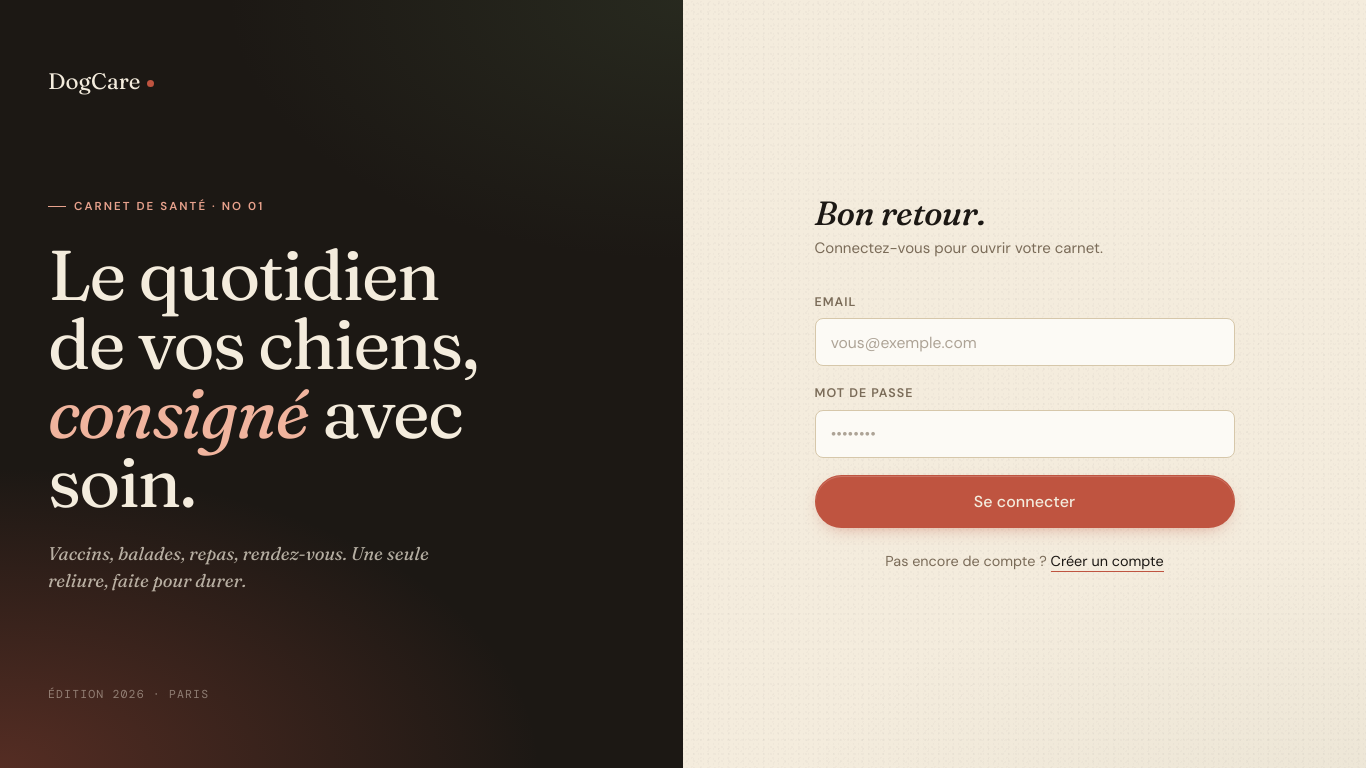
Test: LoginPage › displays the error message when login fails
This screenshot has width=1366, height=768.
Type "a@b.com" into the field labelled "Email" at (1024, 342), box [814,318,1234,366]
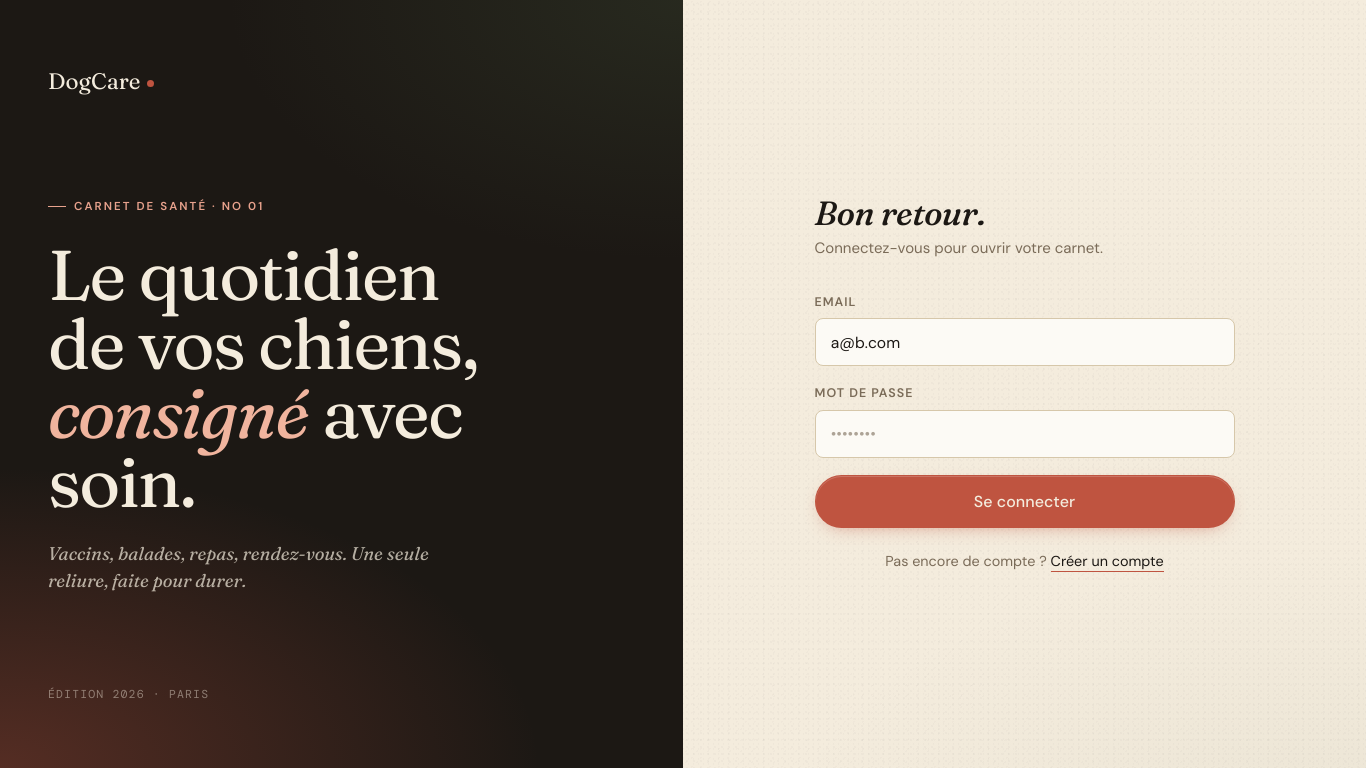
Type "wrong" into the password field labelled "Mot de passe" at (1024, 434), box [814,410,1234,458]
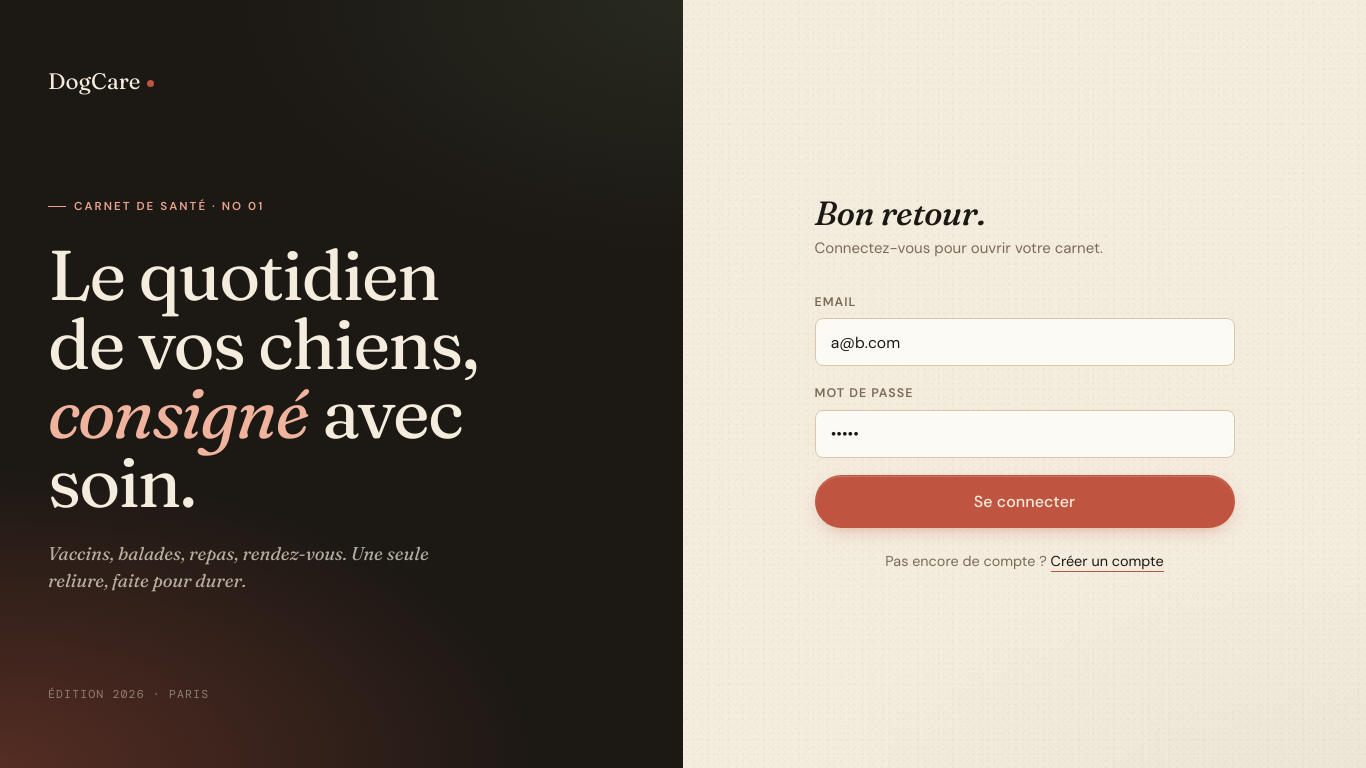
Click the button "Se connecter" at (1024, 501), box [814,475,1234,528]
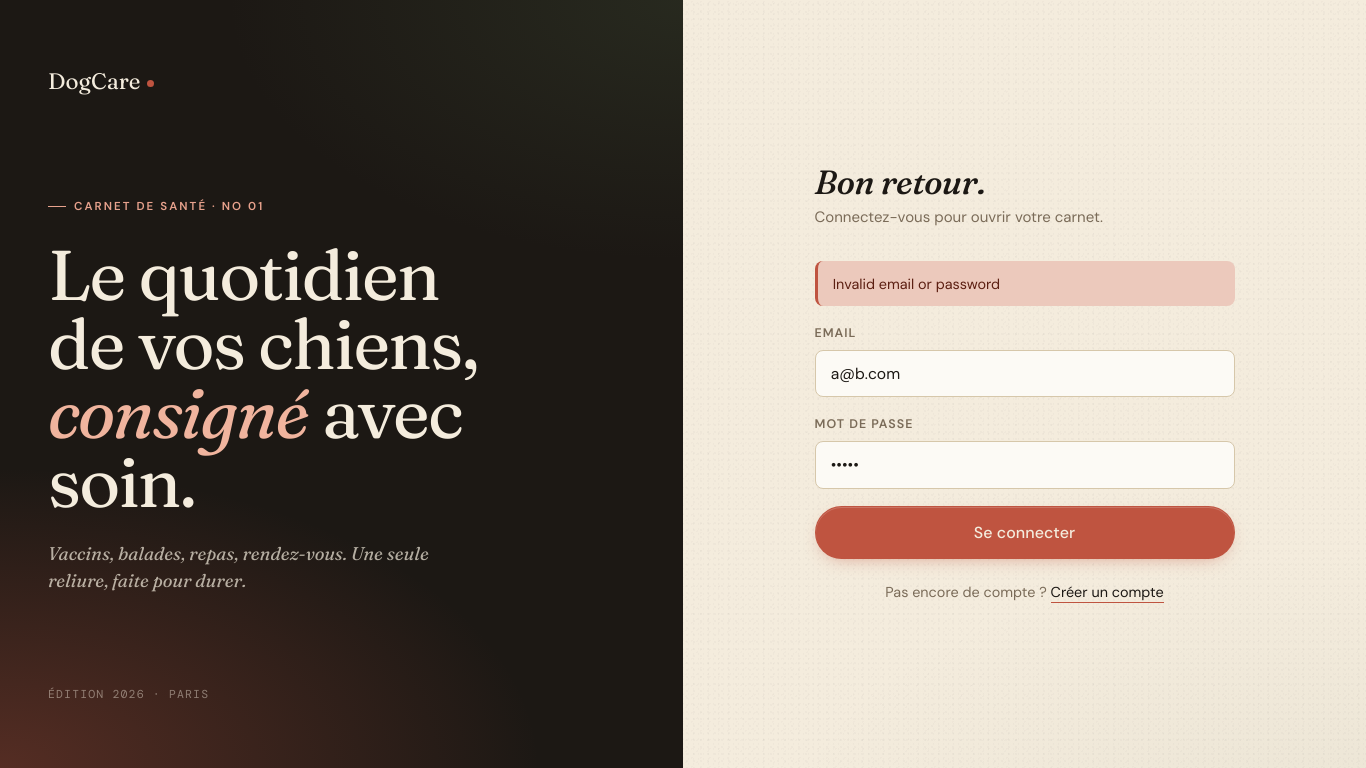
Check: the text "Invalid email or password" is shown, box [814,262,1234,306]
